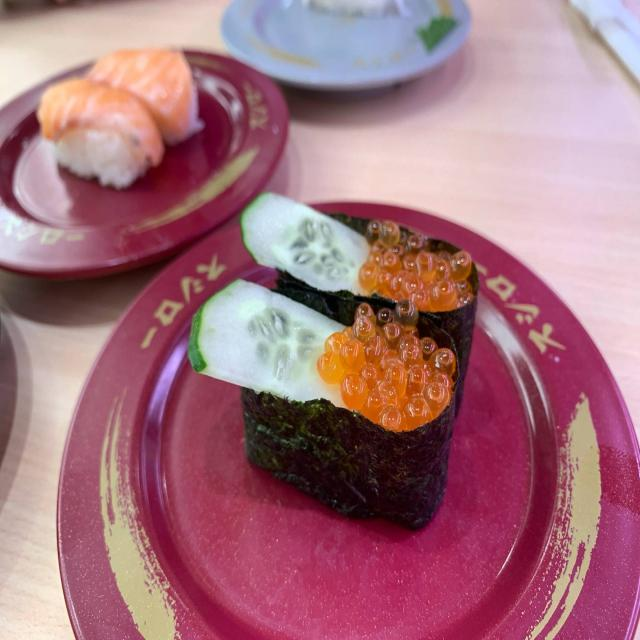janred: (126, 225, 640, 614), (0, 86, 291, 263)
janwoven: (209, 0, 484, 74)
